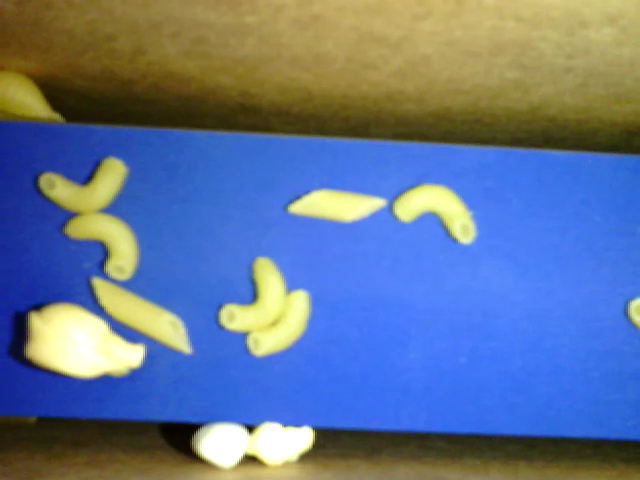elbow: (39, 153, 132, 213), (217, 254, 288, 331), (393, 182, 477, 247), (59, 213, 137, 280), (244, 287, 311, 359)
penne: (91, 277, 194, 355), (284, 189, 388, 224)
tortellini: (23, 302, 148, 381)
